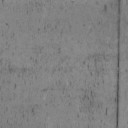surface scratch: (116, 0, 121, 128)
